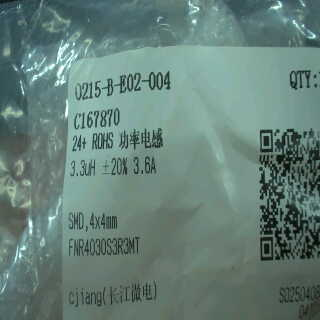3.3uH: (67, 155, 99, 182)
